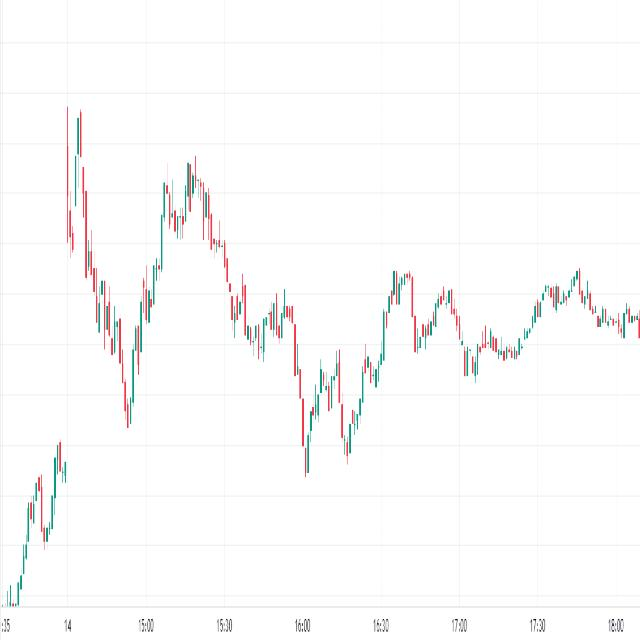Double-Top: (310, 343, 348, 433)
Inverse-Head-Shoulders: (78, 102, 168, 443)
